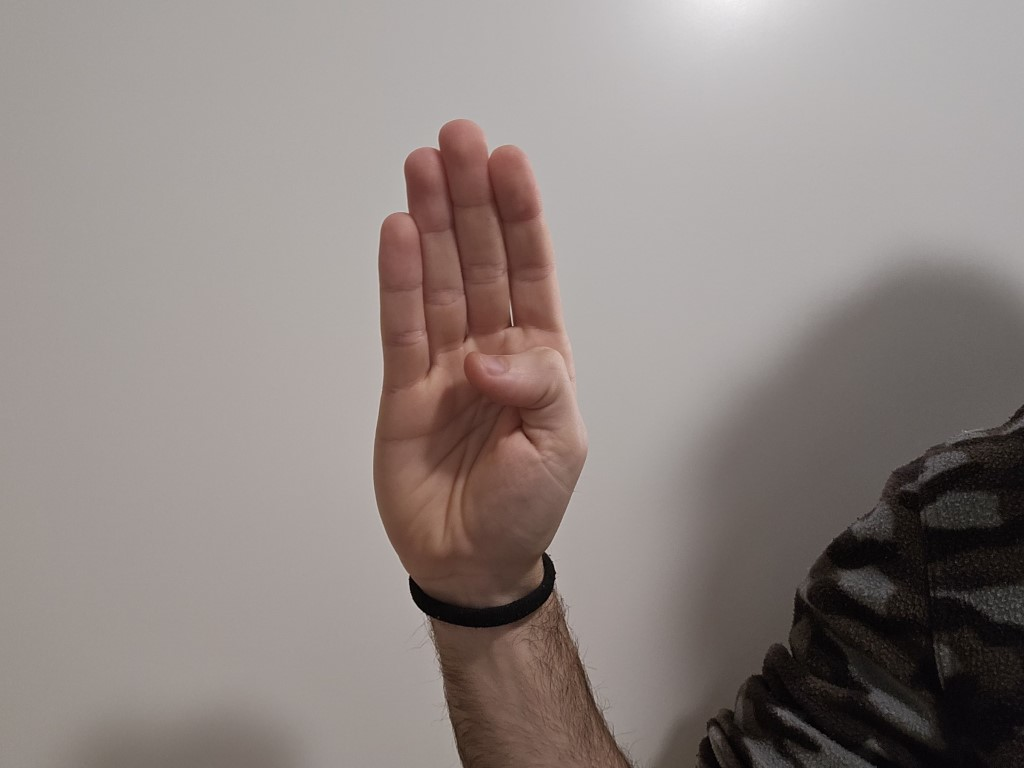b: (336, 116, 604, 586)
